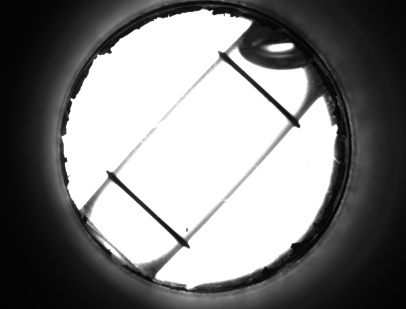line: (120, 192, 178, 227), (237, 79, 292, 106)
